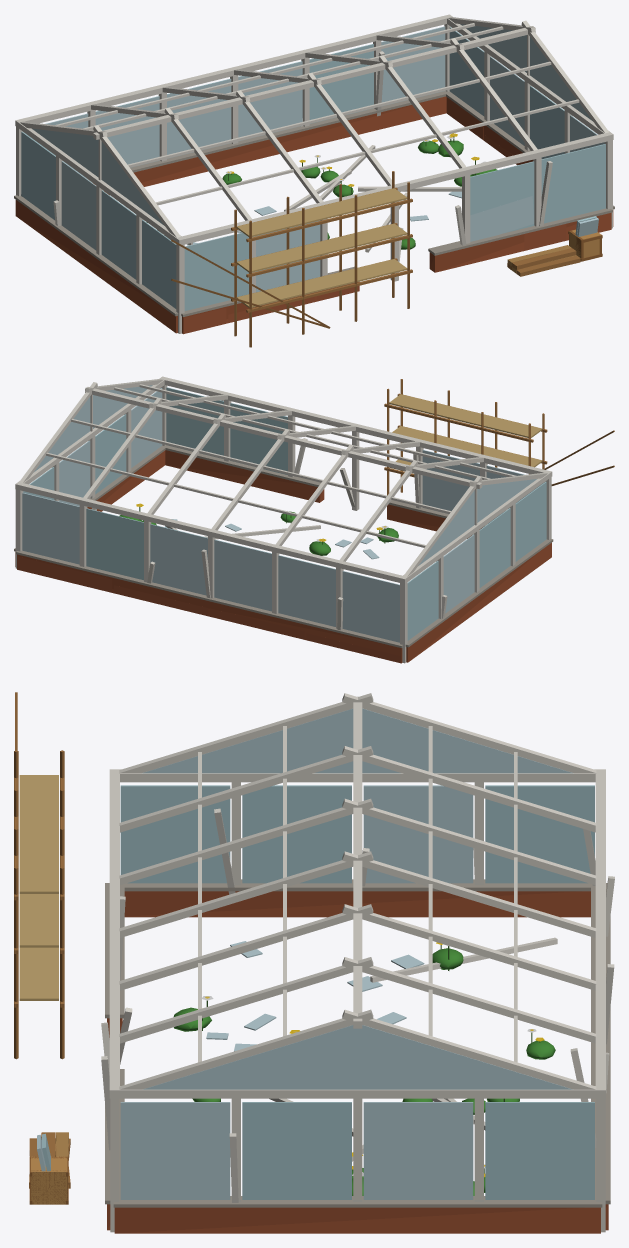
File: greenhouse.glb
3 renders of one model, top to bottom at view 1: azimuth 30°, elevation 25°; view 2: azimuth 150°, elevation 25°; view 3: azimuth 270°, elevation 25°, orthographic. The views are drawn at different scales.
Parts seen in each view (by area): view 1: restore-greenhouse-2, restore-greenhouse-1, restore-greenhouse-3, restore-greenhouse-0; view 2: restore-greenhouse-2, restore-greenhouse-1, restore-greenhouse-3, restore-greenhouse-0; view 3: restore-greenhouse-2, restore-greenhouse-3, restore-greenhouse-1, restore-greenhouse-0.
Part boxes in pixels (x1=…): restore-greenhouse-2: x1=15, y1=14, x2=613, y2=347; restore-greenhouse-1: x1=14, y1=41, x2=614, y2=334; restore-greenhouse-3: x1=32, y1=17, x2=608, y2=279; restore-greenhouse-0: x1=21, y1=51, x2=566, y2=333; restore-greenhouse-2: x1=14, y1=376, x2=614, y2=663; restore-greenhouse-1: x1=14, y1=388, x2=614, y2=663; restore-greenhouse-3: x1=19, y1=379, x2=536, y2=613; restore-greenhouse-0: x1=18, y1=400, x2=507, y2=663; restore-greenhouse-2: x1=14, y1=692, x2=605, y2=1207; restore-greenhouse-3: x1=29, y1=696, x2=596, y2=1188; restore-greenhouse-1: x1=14, y1=782, x2=610, y2=1233; restore-greenhouse-0: x1=101, y1=808, x2=614, y2=1202.
Size of the model in its own units: 12.73 by 3.7 by 9.15.
